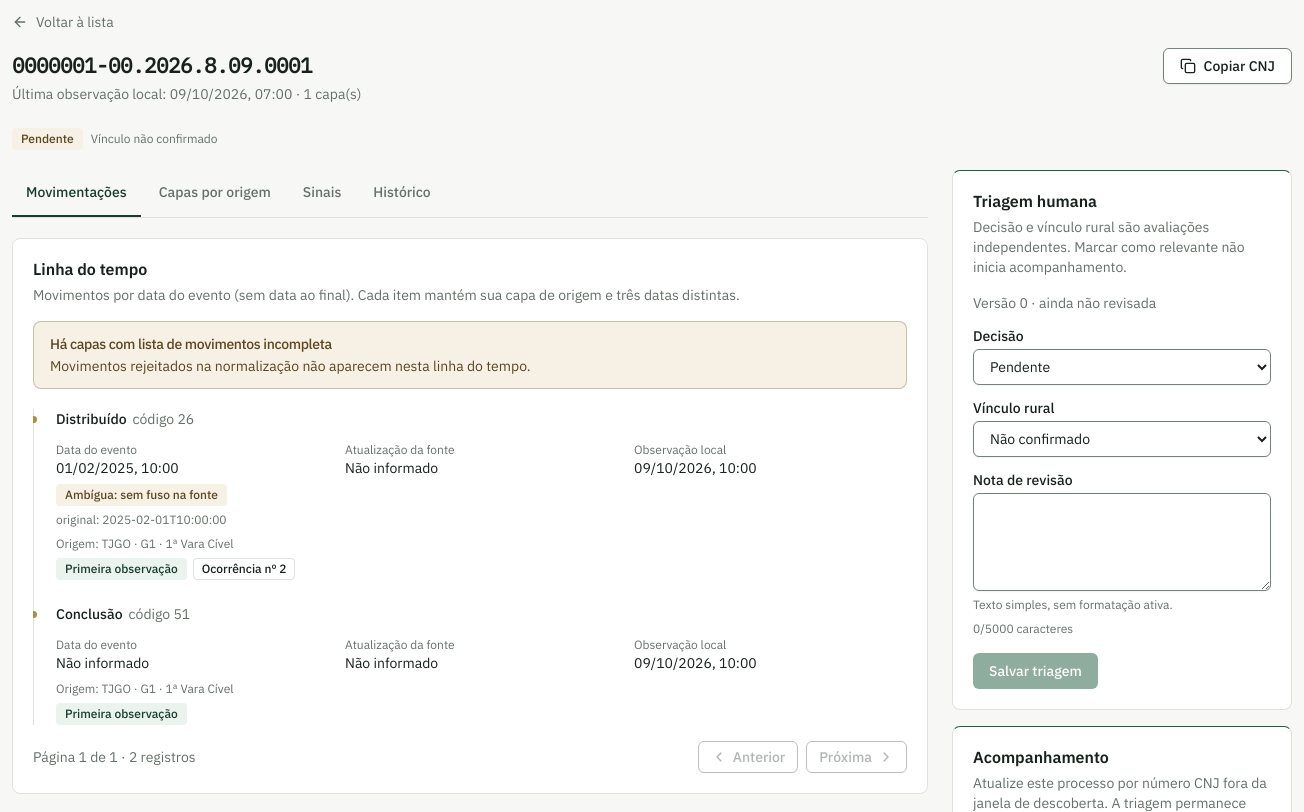
Test: ProcessDetailPage › keeps origin, three dates, ambiguity and absent values explicit
Expected: the number of list items with test id "movement" is 2, x1=33 y1=409 x2=907 y2=604; x1=33 y1=604 x2=907 y2=725
Expected: the element named "Lista de movimentações" is shown, x1=33 y1=405 x2=907 y2=725
Step 1. Click the tab "Capas por origem" → (215, 194), box x1=145 y1=170 x2=285 y2=217
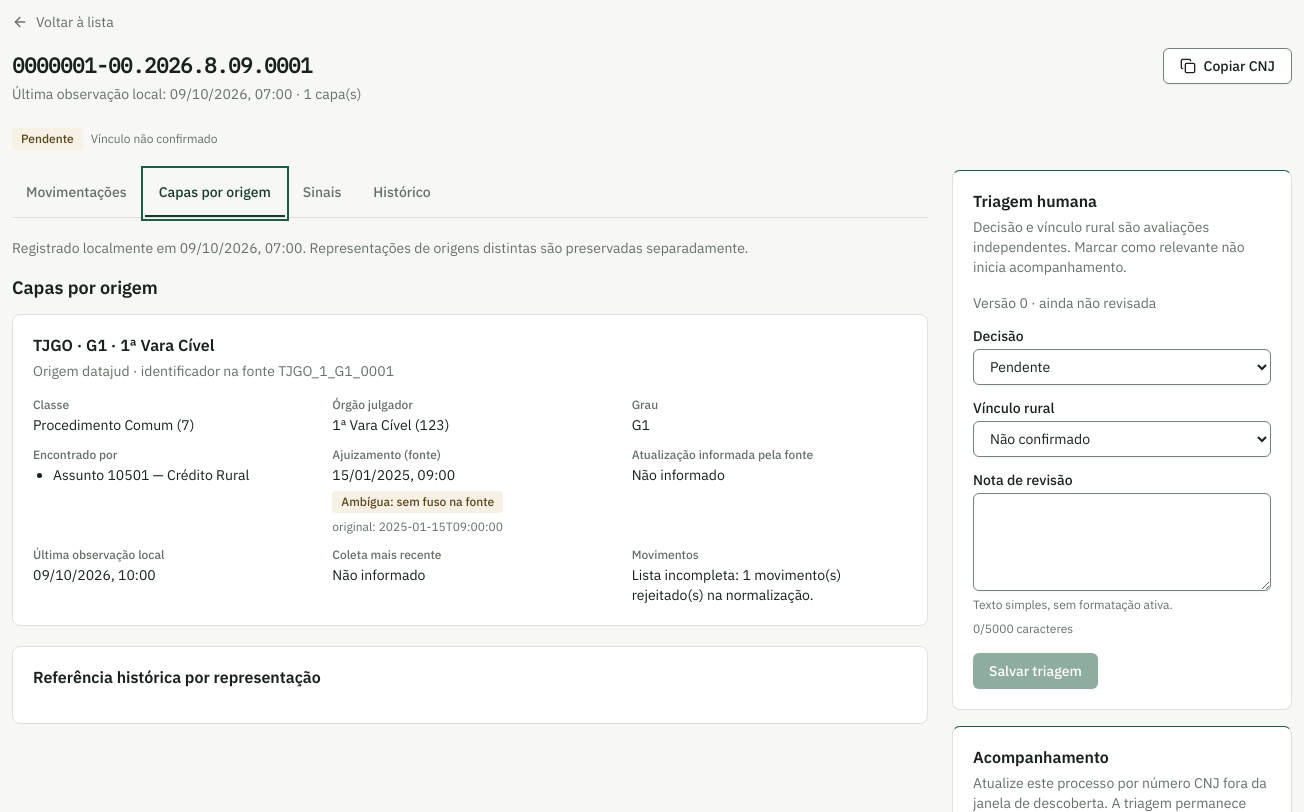
Result: the element with test id "representation" shows "Encontrado por" at x1=33 y1=447 x2=117 y2=462
Result: the element with test id "representation" shows "Assunto 10501 — Crédito Rural" at x1=53 y1=466 x2=249 y2=484
Result: the element with test id "representation" shows "Procedimento Comum (7)" at x1=33 y1=416 x2=194 y2=434
